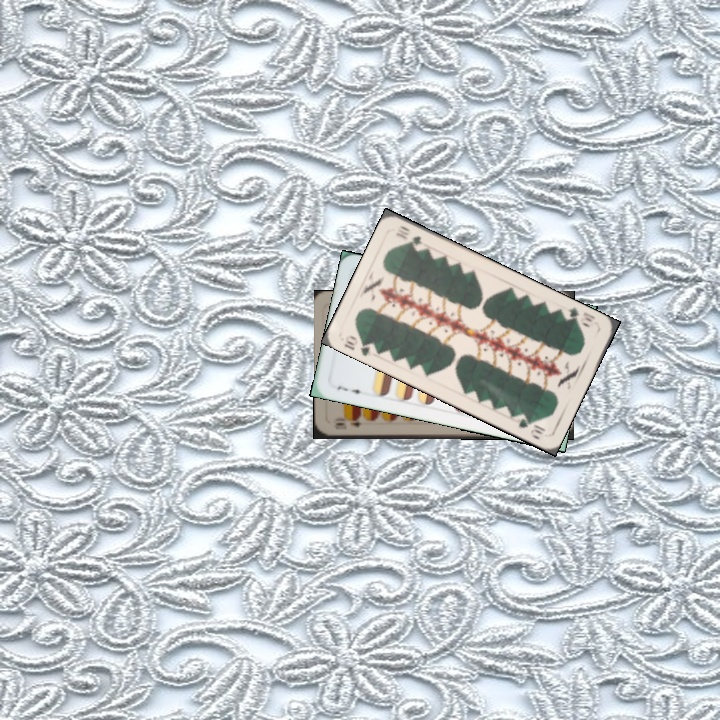E10: (330, 415, 364, 432)
E7: (333, 382, 367, 397)
G10: (340, 331, 379, 359), (559, 303, 597, 330)
